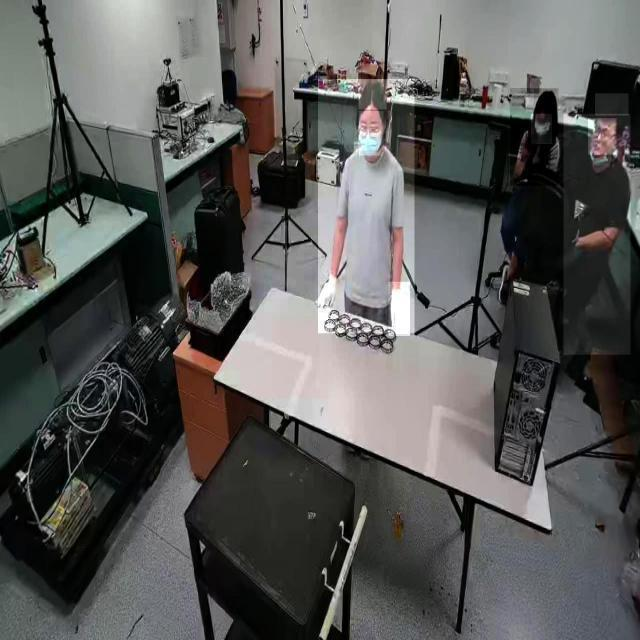gloves: (314, 266, 336, 324), (388, 282, 411, 337)
